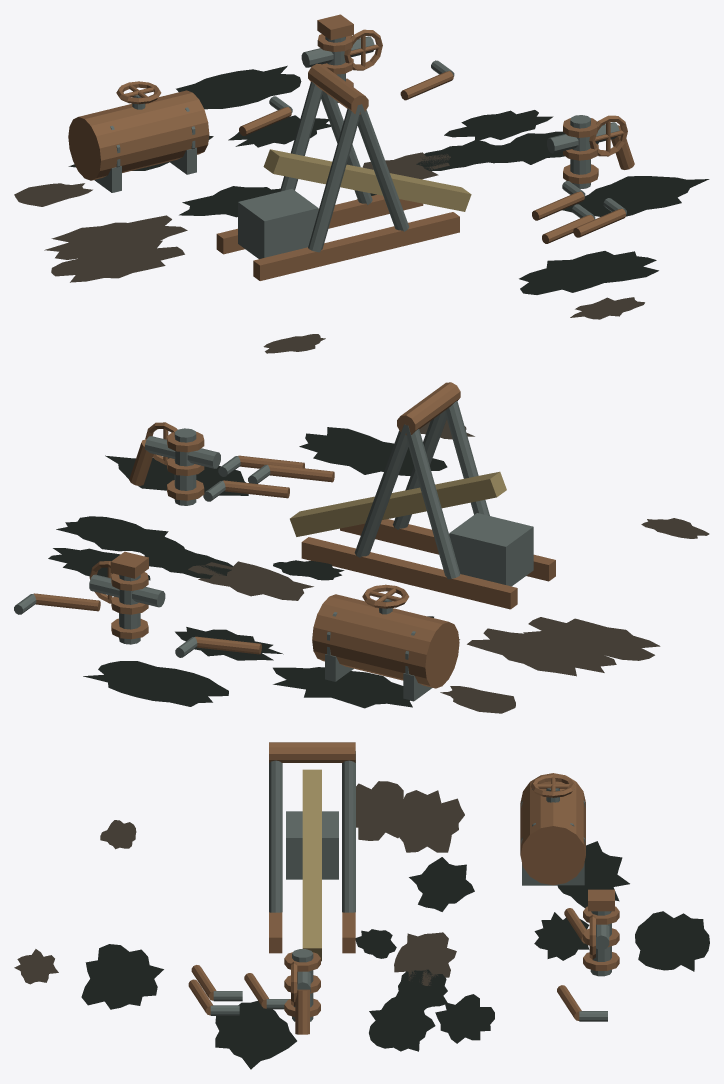
File: oil_large.glb
3 views of the same model, one above another, from view 1: azimuth 30°, elevation 25°; view 2: azimuth 150°, elevation 25°; view 3: azimuth 270°, elevation 25° (orthographic). The views are drawn at different scales.
Visible parts, largest first — view 1: Cube; view 2: Cube; view 3: Cube.
Part boxes in pixels (x1,y1,x2,y2): Cube: (14, 14, 709, 353); Cube: (14, 382, 709, 713); Cube: (14, 742, 709, 1069).
Size of the model in its own units: 8.57 by 2.24 by 8.74.
